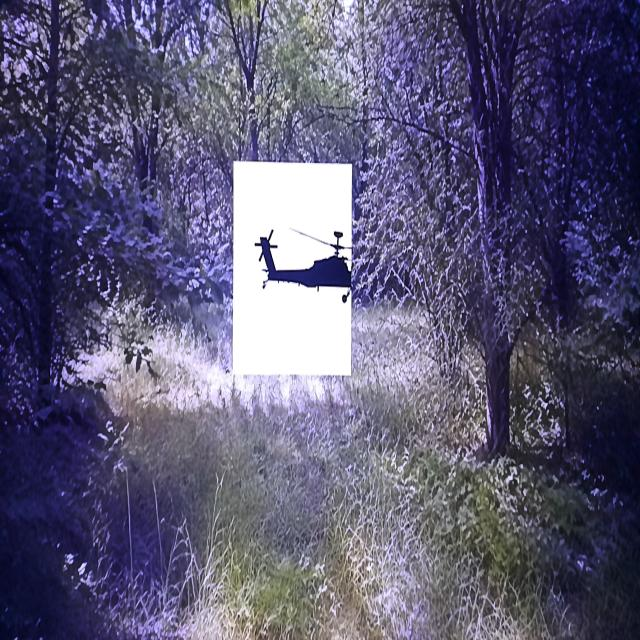Apache friendly: (255, 230, 351, 302)
